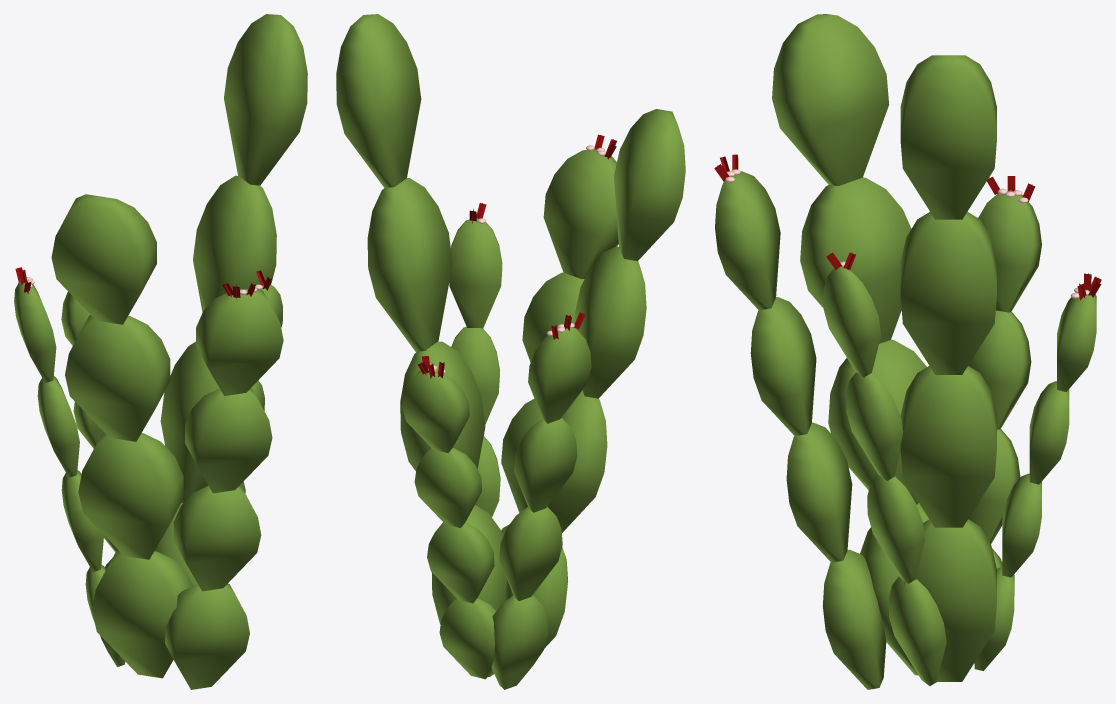
The model's file is CochinealCactus.fbx.
3 renders of one model, left to right at view 1: azimuth 30°, elevation 25°; view 2: azimuth 150°, elevation 25°; view 3: azimuth 270°, elevation 25°, orthographic. The views are drawn at different scales.
Visible parts, largest first — view 1: CochinealCactus; view 2: CochinealCactus; view 3: CochinealCactus.
Part boxes in pixels (left/top/right/bottom): CochinealCactus: left=14, top=14, right=307, bottom=689; CochinealCactus: left=336, top=14, right=685, bottom=689; CochinealCactus: left=714, top=14, right=1101, bottom=689.
Size of the model in its own units: 19.23 by 40.62 by 20.63.
